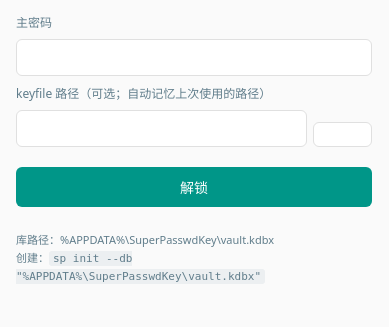
Test case: UnlockPanel › 空密码不提交
Click the button with class "submit" at point(194, 187), box [16,167,372,207]
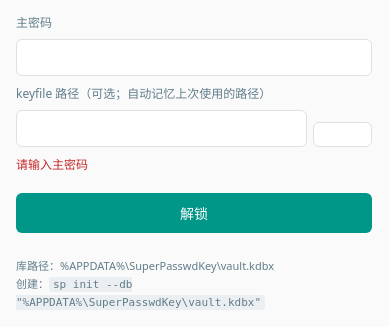
Now the text "请输入主密码" is shown, box [16,156,88,173]
